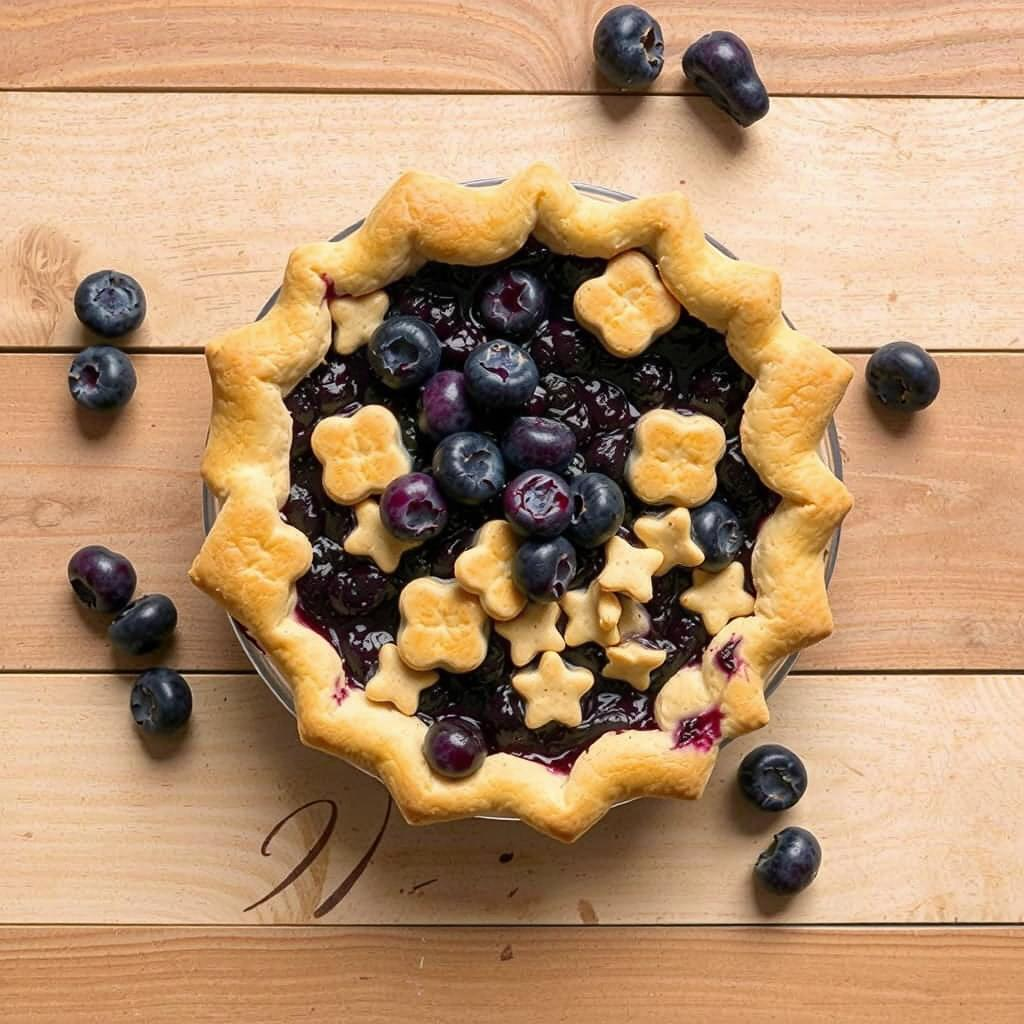pie: (196, 157, 869, 849)
